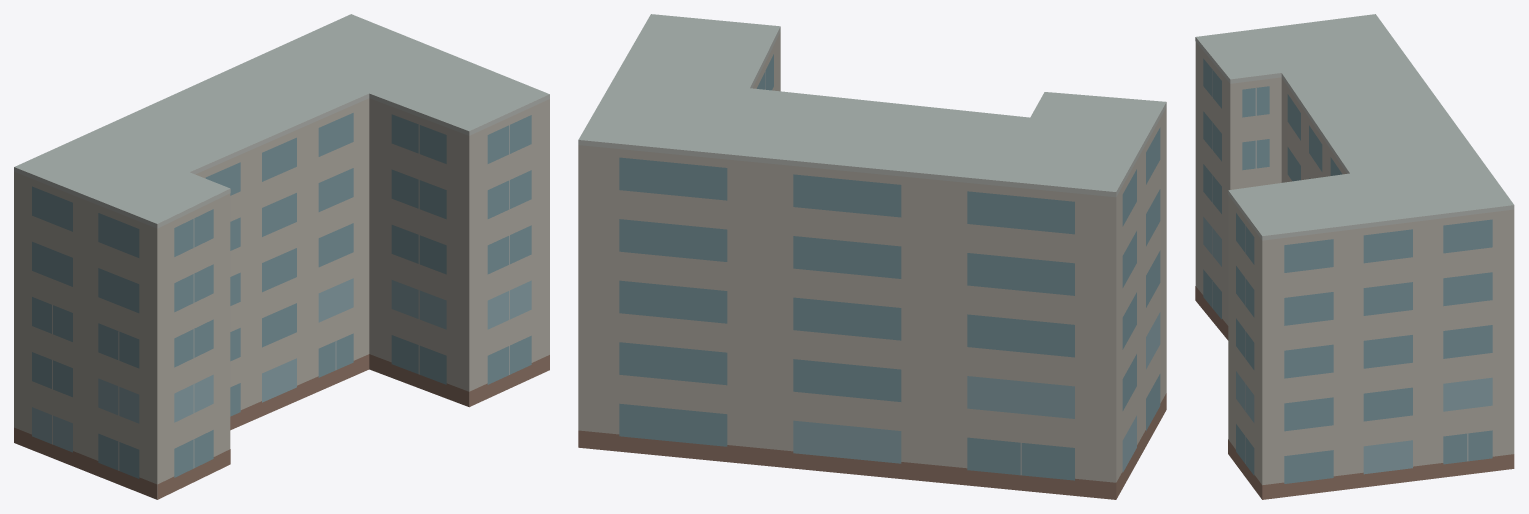
The model's file is survey-upis-32564895.glb.
3 renders of one model, left to right at view 1: azimuth 30°, elevation 25°; view 2: azimuth 150°, elevation 25°; view 3: azimuth 270°, elevation 25°, orthographic. The views are drawn at different scales.
Visible parts, largest first — view 1: survey-upis-32564895.tmp; view 2: survey-upis-32564895.tmp; view 3: survey-upis-32564895.tmp.
Boxes of the visible parts, x1,y1,x2,y2 form: survey-upis-32564895.tmp: [14, 14, 549, 499]; survey-upis-32564895.tmp: [578, 14, 1166, 499]; survey-upis-32564895.tmp: [1195, 14, 1514, 499].
Bounding box in the file's own units: 26.21 × 14.5 × 15.9.
